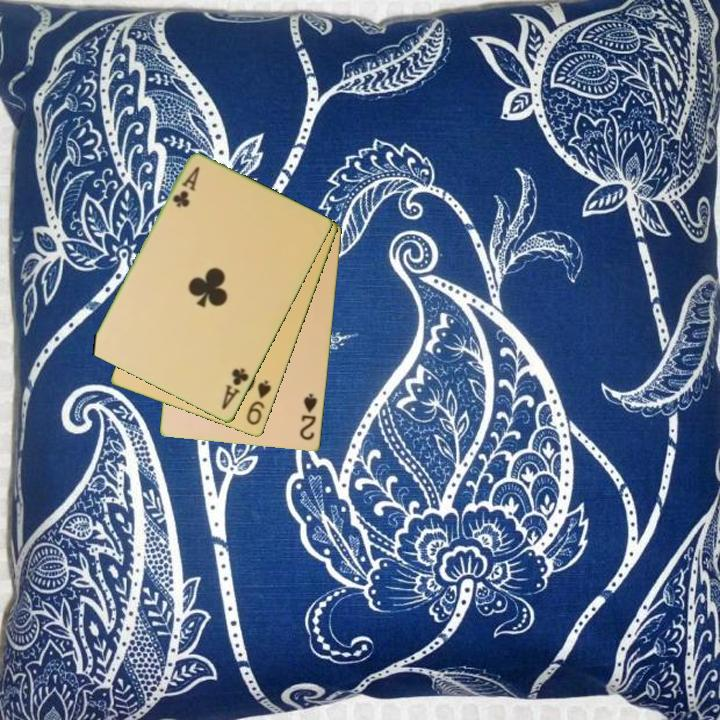2s: (296, 390, 320, 443)
9s: (243, 377, 274, 428)
Ac: (218, 365, 252, 413), (169, 163, 203, 211)
